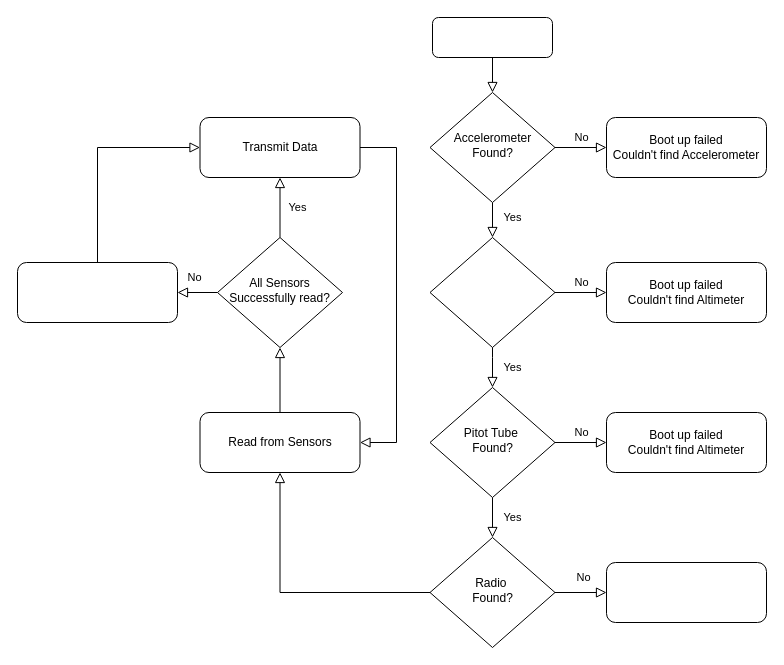
Some shapes in this 784 by 665 pixel diagram are drawn without their labels. The shapes that lost their labels are listed below. From the top down, each one's box as (x1, y1, x2, y2) in pixels, then its label:
(432, 16, 552, 58): Start Arduino UNO
(16, 262, 178, 322): Replace any missing data with error value -20
(429, 236, 555, 348): Altimeter Found?
(606, 562, 766, 622): Boot up failed Couldn't find Radio
